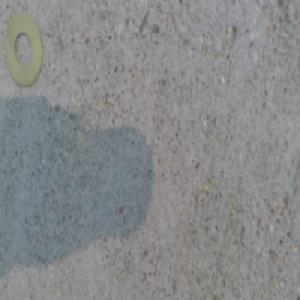Washer: (4, 13, 43, 85)
